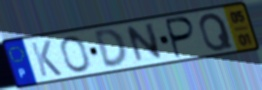D: (92, 27, 129, 69)
K: (29, 39, 64, 79)
N: (124, 21, 165, 65)
O: (59, 34, 92, 74)
P: (165, 15, 198, 61)
Q: (198, 12, 236, 53)
